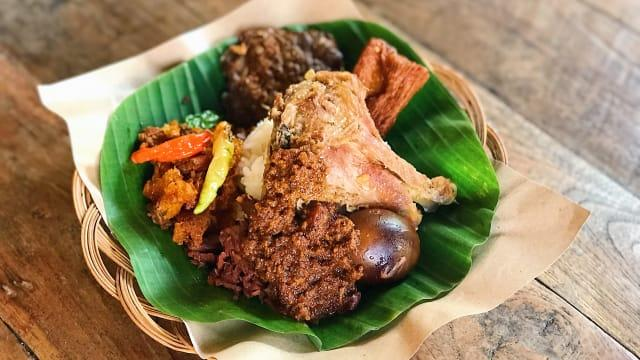gudeg: (130, 29, 456, 322)
